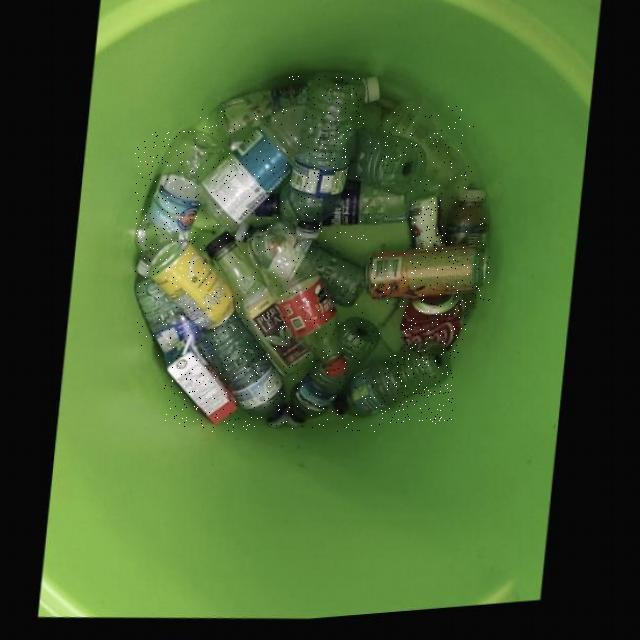metal: (149, 242, 234, 333), (366, 253, 491, 306), (401, 301, 466, 359), (408, 201, 443, 255)
paper: (165, 344, 238, 428)
plastic: (248, 227, 349, 384), (205, 237, 314, 381), (198, 108, 304, 236), (136, 132, 225, 279), (290, 76, 367, 245), (200, 315, 289, 432), (289, 322, 381, 432), (382, 106, 474, 207), (331, 354, 453, 424), (134, 276, 199, 357), (347, 133, 428, 196), (300, 244, 366, 314), (322, 186, 411, 232), (445, 196, 488, 256)
